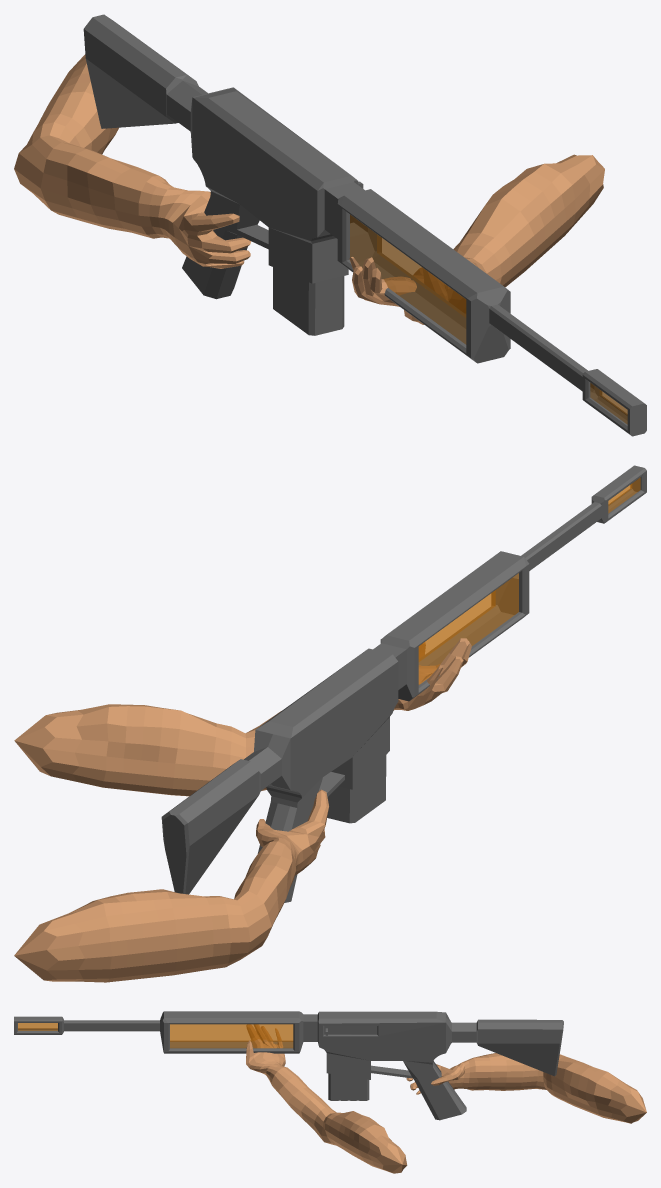
File: plasmaGun + Arms.fbx
3 views of the same model, one above another, from view 1: azimuth 30°, elevation 25°; view 2: azimuth 150°, elevation 25°; view 3: azimuth 270°, elevation 25° (orthographic). The views are drawn at different scales.
Visible parts, largest first — view 1: GUN BASE, Cube, Cube.001, GUN BASE.003; view 2: GUN BASE, Cube, Cube.001, GUN BASE.003; view 3: GUN BASE, Cube, Cube.001, GUN BASE.003, GUN BASE.002.
Boxes of the visible parts, box(x1,y1,x2,y2) form: GUN BASE: box(83, 14, 646, 436); Cube: box(14, 54, 250, 268); Cube.001: box(349, 154, 604, 324); GUN BASE.003: box(350, 215, 627, 424); GUN BASE: box(161, 465, 646, 902); Cube: box(14, 789, 328, 982); Cube.001: box(14, 638, 471, 796); GUN BASE.003: box(418, 477, 640, 684); GUN BASE: box(14, 1011, 563, 1120); Cube: box(406, 1053, 646, 1123); Cube.001: box(246, 1024, 407, 1173); GUN BASE.003: box(18, 1023, 293, 1048); GUN BASE.002: box(324, 1026, 377, 1035).
Bounding box in the file's own units: 214 × 96.96 × 539.
